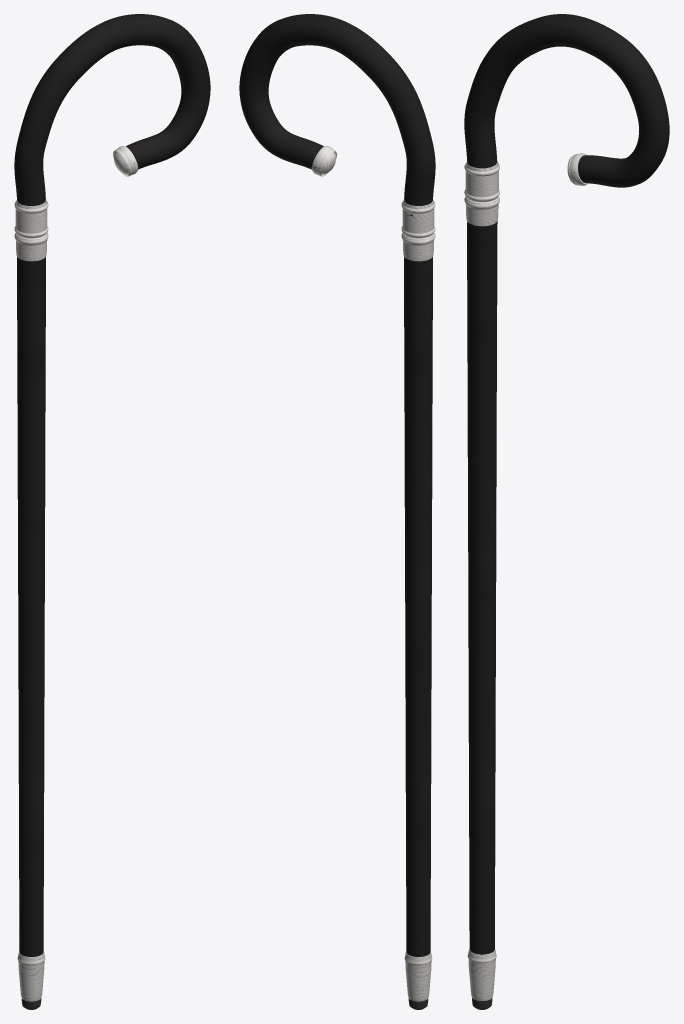
File: cane_sword.glb
The picture shows the model from 3 angles, left to right: view 1: azimuth 30°, elevation 25°; view 2: azimuth 150°, elevation 25°; view 3: azimuth 330°, elevation 25°; orthographic projection. The views are drawn at different scales.
Parts seen in each view (by area): view 1: Sheath, Hilt; view 2: Sheath, Hilt; view 3: Sheath, Hilt.
Boxes of the visible parts, bbox=[...] form: Sheath: bbox=[14, 233, 48, 1009]; Hilt: bbox=[14, 14, 210, 238]; Sheath: bbox=[401, 233, 435, 1009]; Hilt: bbox=[239, 14, 435, 238]; Sheath: bbox=[464, 196, 499, 1009]; Hilt: bbox=[464, 14, 669, 202].
Bounding box in the file's own units: 0.2064 × 0.9917 × 0.0316.
Materials: 6 (6 with a texture image).
